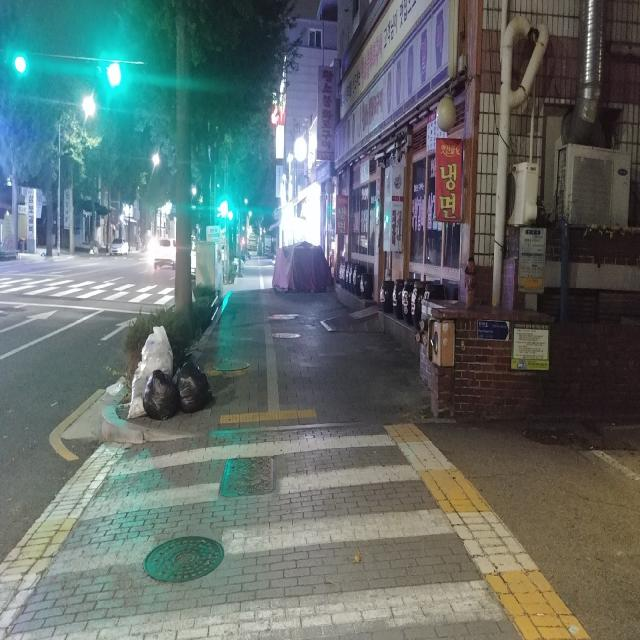횡단보도: (5, 434, 507, 639), (0, 275, 182, 312)
